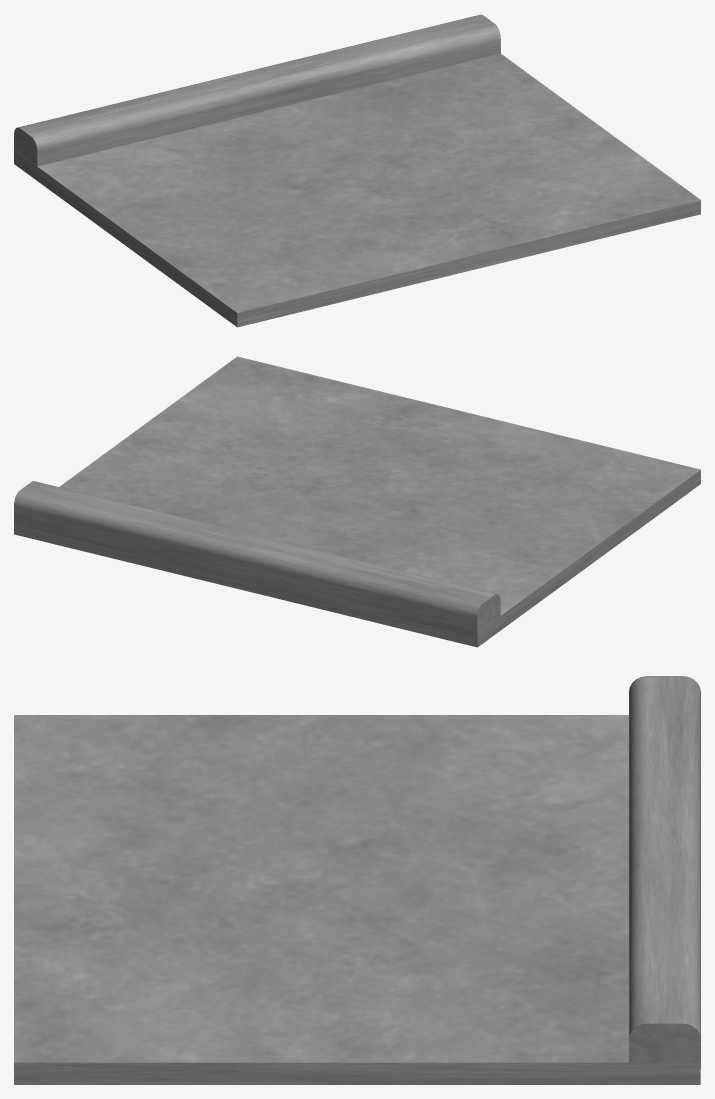
Rendered from MetalWalk.fbx.
3 renders of one model, top to bottom at view 1: azimuth 30°, elevation 25°; view 2: azimuth 150°, elevation 25°; view 3: azimuth 270°, elevation 25°, orthographic. The views are drawn at different scales.
Parts seen in each view (by area): view 1: Plane, Curb; view 2: Plane, Curb; view 3: Plane, Curb.
Boxes of the visible parts, <box> form: Plane: <box>14,53,700,327</box>; Curb: <box>14,14,500,166</box>; Plane: <box>14,356,700,647</box>; Curb: <box>14,481,500,637</box>; Plane: <box>14,715,700,1084</box>; Curb: <box>629,676,700,1068</box>.
Size of the model in its own units: 300 by 24.67 by 251.
